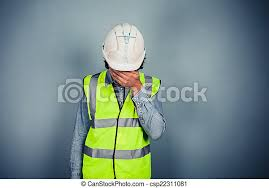Helmet: (99, 25, 147, 70)
Jacket: (84, 76, 157, 179)
